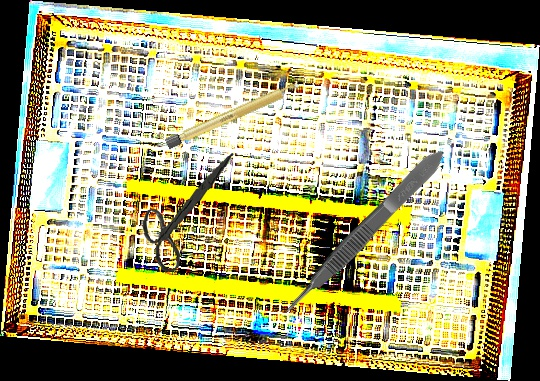Iris Scissors: (138, 146, 234, 277)
Scalpel Handle: (164, 80, 303, 150)
Tissue Forceps: (274, 144, 452, 321)
